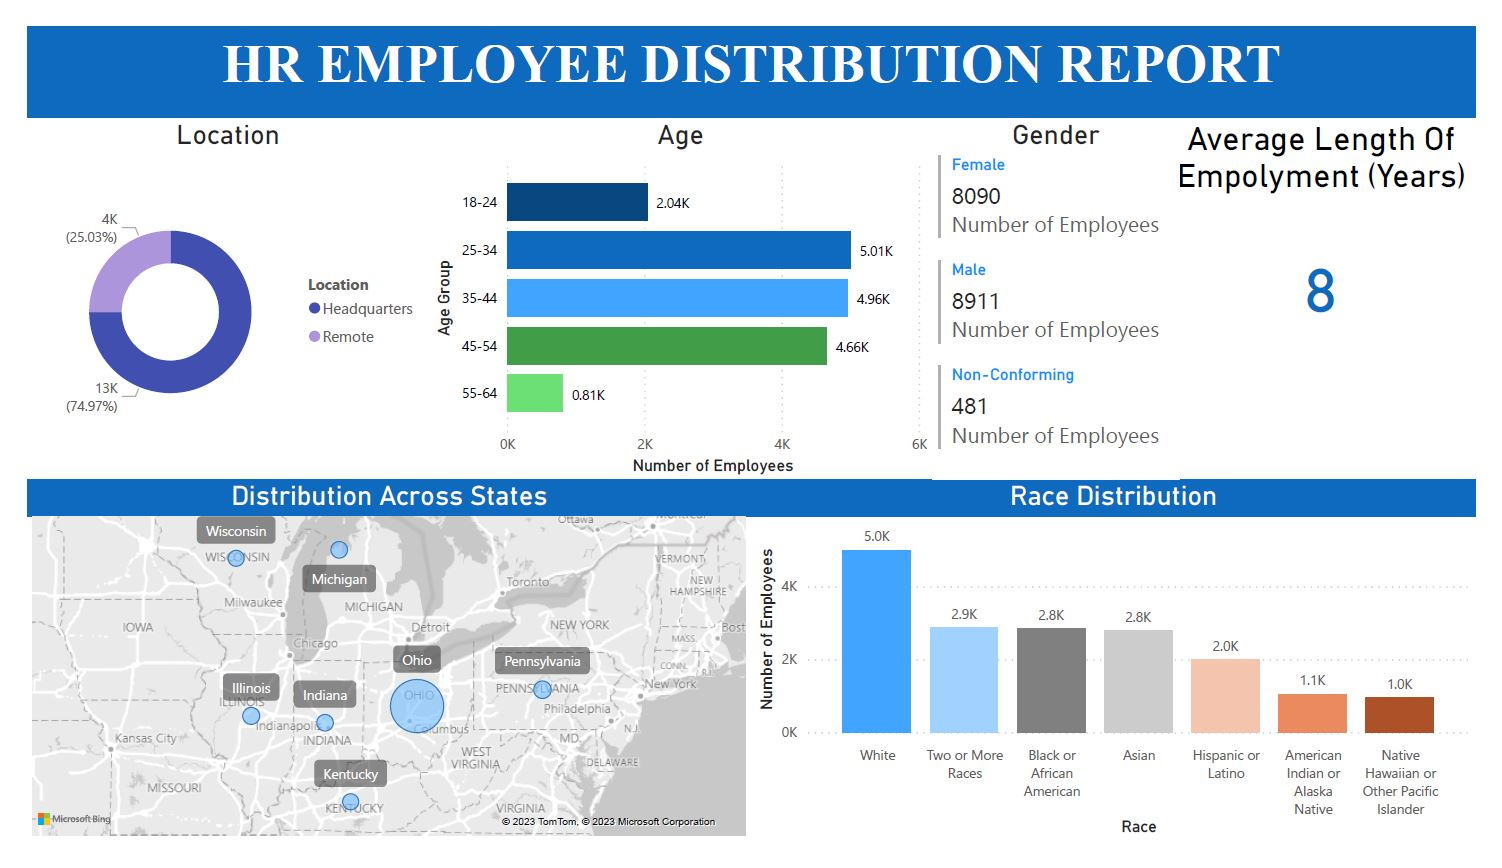

The dashboard page shown, as its layout file describes it:
{"tool":"powerbi","page":{"name":"Page 1","canvas":[1280,720],"ordinal":0},"visuals":[{"type":"textbox","box":[0,0,1280,81.6],"z":0},{"type":"card","title":"Average Length Of Empolyment (Years)","fields":{"Values":["Sum(avg_length_employment.avg_length_employment)"]},"box":[1005.9,81.6,274.1,223.5],"z":1},{"type":"barChart","title":"Age ","fields":{"Category":["age_group.age_group"],"Y":["Sum(age_group.count)"]},"box":[354.7,81.6,445.1,319.8],"z":3},{"type":"clusteredColumnChart","title":"Race Distribution ","fields":{"Category":["Race.race"],"Y":["Sum(Race.count)"]},"box":[640.5,401.4,639.5,318.8],"z":4},{"type":"donutChart","title":"Location","fields":{"Category":["location.location"],"Y":["Sum(location.count)"]},"box":[0,81.6,354.7,319.8],"z":5},{"type":"multiRowCard","title":"Gender ","fields":{"Values":["Gender.gender","Sum(Gender.total_employees)"]},"box":[799.9,81.6,217.7,319.8],"z":6},{"type":"map","title":"Distribution Across States","fields":{"Size":["Sum(city_state.count)"],"Category":["city_state.location_state"]},"box":[0,401.4,640.5,318.8],"z":9}]}

Visuals, with their boxes in screenshot pixels (x1, y1, x2, y2), scaled from the page's 1280x720 canvas onto the 1502x868 screenshot:
textbox: x1=0, y1=0, x2=1501, y2=98
"Average Length Of Empolyment (Years)" card: x1=1180, y1=98, x2=1501, y2=368
"Age " barChart: x1=416, y1=98, x2=939, y2=484
"Race Distribution " clusteredColumnChart: x1=752, y1=484, x2=1501, y2=867
"Location" donutChart: x1=0, y1=98, x2=416, y2=484
"Gender " multiRowCard: x1=939, y1=98, x2=1194, y2=484
"Distribution Across States" map: x1=0, y1=484, x2=752, y2=867
